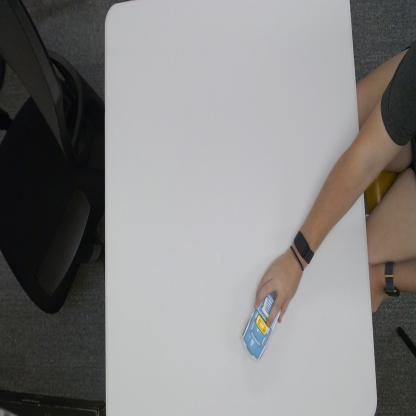Arm: (310, 134, 364, 246)
Car: (241, 291, 281, 359)
Hand: (254, 246, 302, 329)
